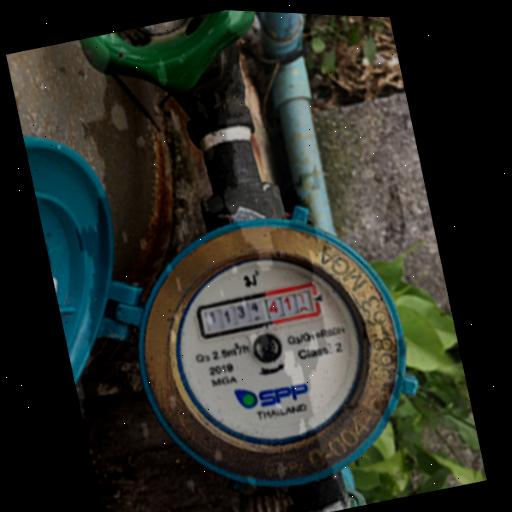1: (280, 294, 298, 317), (295, 292, 312, 314), (220, 308, 237, 329), (206, 310, 222, 332)
3: (235, 303, 252, 325)
4: (266, 297, 283, 320), (248, 302, 265, 323)
border_water_meter_number: (194, 277, 324, 345)
